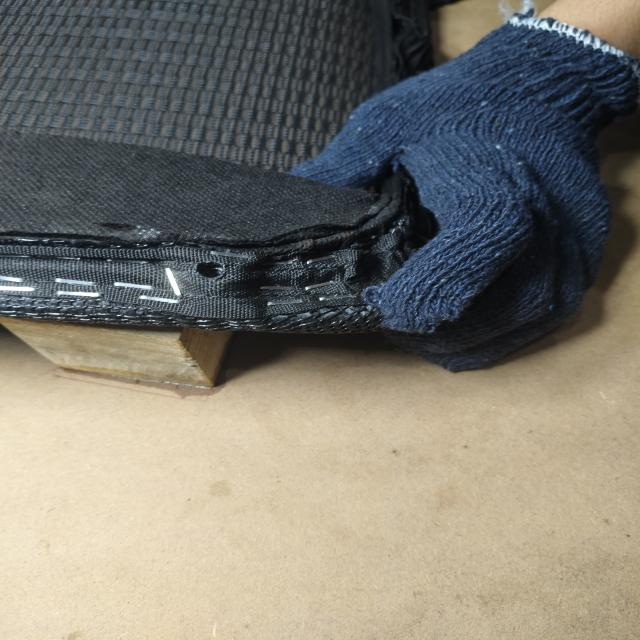Gloves-Detection: (320, 29, 631, 393)
